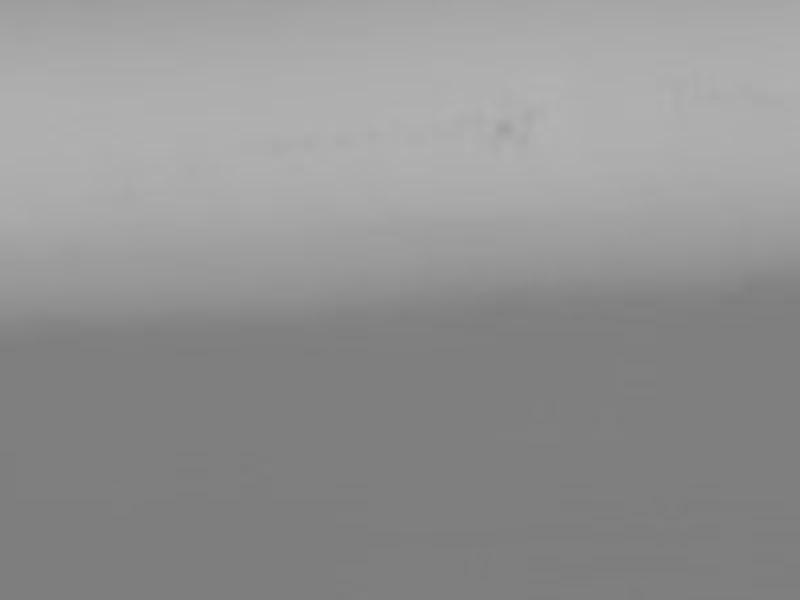defect: (515, 100, 547, 130), (491, 117, 515, 142), (513, 129, 534, 149)
